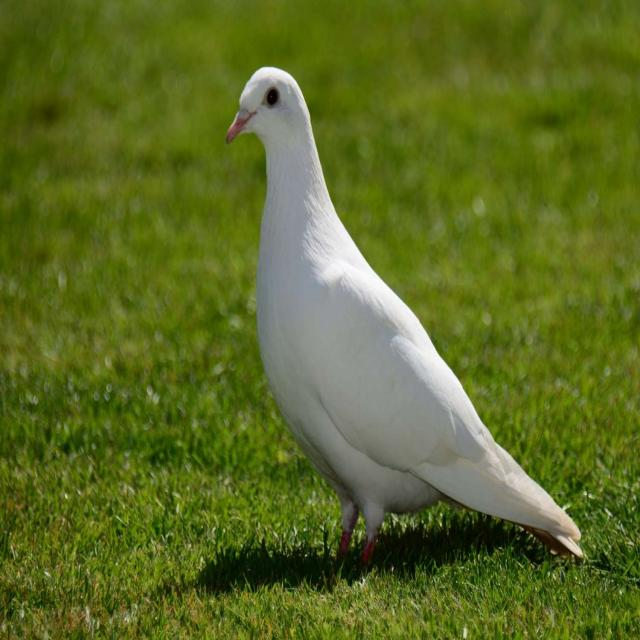Birds: (141, 44, 515, 560)
